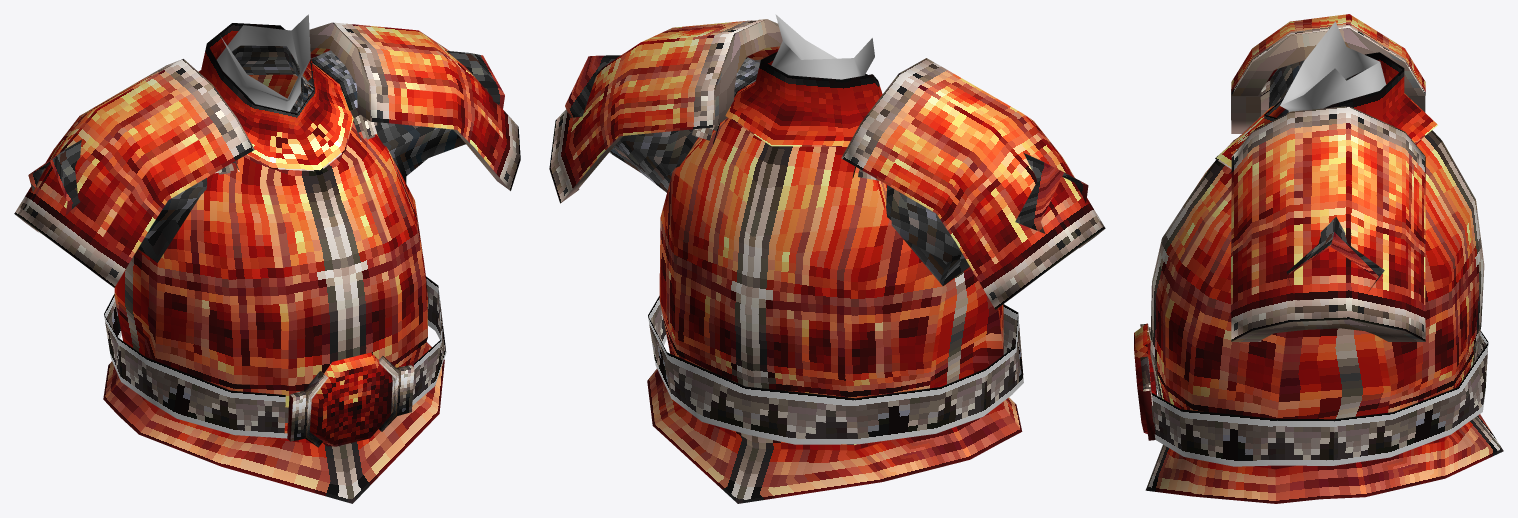
File: m_plate309.obj
3 views of the same model, side by side, from view 1: azimuth 30°, elevation 25°; view 2: azimuth 150°, elevation 25°; view 3: azimuth 270°, elevation 25° (orthographic). The views are drawn at different scales.
Visible parts, largest first — view 1: mesh00, mesh02, mesh01; view 2: mesh00, mesh02, mesh01; view 3: mesh00, mesh02, mesh01.
Part boxes in pixels (<box>): mesh00: <box>14,22,520,503</box>; mesh02: <box>104,50,446,438</box>; mesh01: <box>216,14,310,111</box>; mesh00: <box>549,19,1105,503</box>; mesh02: <box>648,57,1023,444</box>; mesh01: <box>771,14,874,79</box>; mesh00: <box>1134,14,1503,503</box>; mesh02: <box>1151,82,1488,466</box>; mesh01: <box>1280,21,1386,112</box>.
Size of the model in its own units: 77.3 by 64.42 by 48.39.
